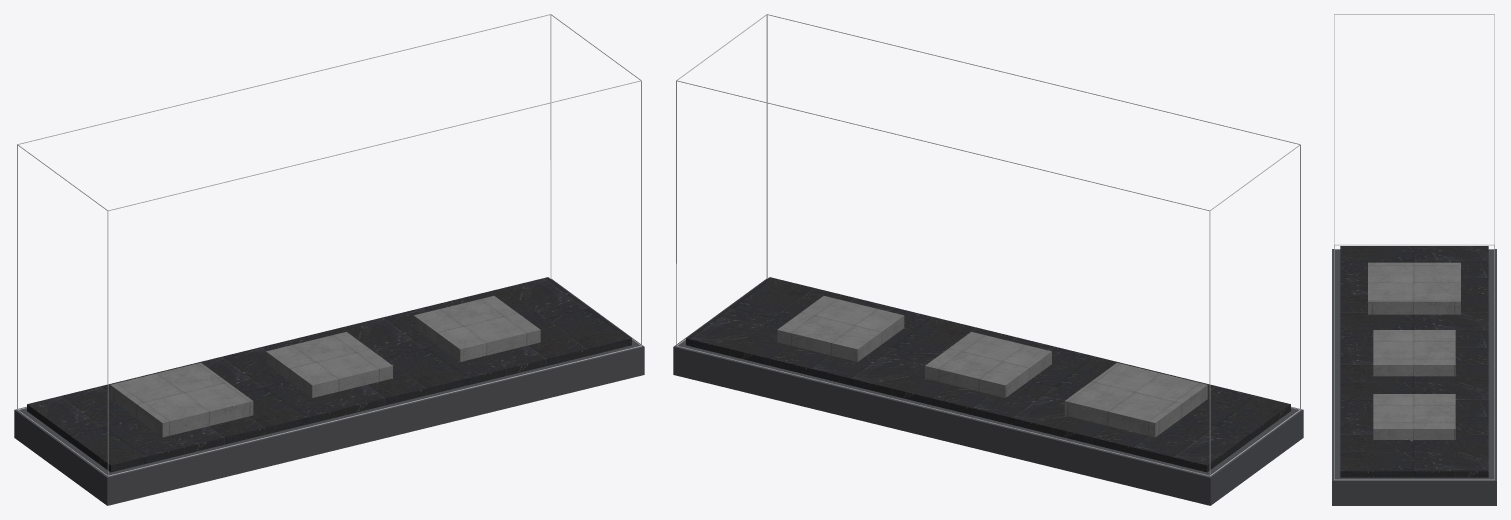
Rendered from 玻璃展览柜（长）.obj.
3 views of the same model, side by side, from view 1: azimuth 30°, elevation 25°; view 2: azimuth 150°, elevation 25°; view 3: azimuth 270°, elevation 25° (orthographic). The views are drawn at different scales.
Visible parts, largest first — view 1: Bottom, shelf2, shelf3, shelf1, Glass; view 2: Bottom, shelf2, shelf3, shelf1, Glass; view 3: Bottom, shelf2, shelf1, shelf3, Glass.
Part boxes in pixels (left/top/right/bottom): Bottom: left=14, top=277, right=644, bottom=505; shelf2: left=110, top=362, right=253, bottom=437; shelf3: left=413, top=296, right=540, bottom=361; shelf1: left=266, top=332, right=392, bottom=397; Glass: left=17, top=14, right=641, bottom=476; Bottom: left=673, top=277, right=1303, bottom=505; shelf2: left=1064, top=362, right=1207, bottom=437; shelf3: left=777, top=296, right=904, bottom=361; shelf1: left=925, top=332, right=1051, bottom=397; Glass: left=676, top=14, right=1300, bottom=476; Bottom: left=1332, top=246, right=1496, bottom=505; shelf2: left=1368, top=262, right=1460, bottom=314; shelf1: left=1373, top=330, right=1455, bottom=376; shelf3: left=1373, top=394, right=1455, bottom=439; Glass: left=1334, top=14, right=1494, bottom=480.
Bounding box in the file's own units: 2 × 1.06 × 0.6.
2 materials, 2 textured.
